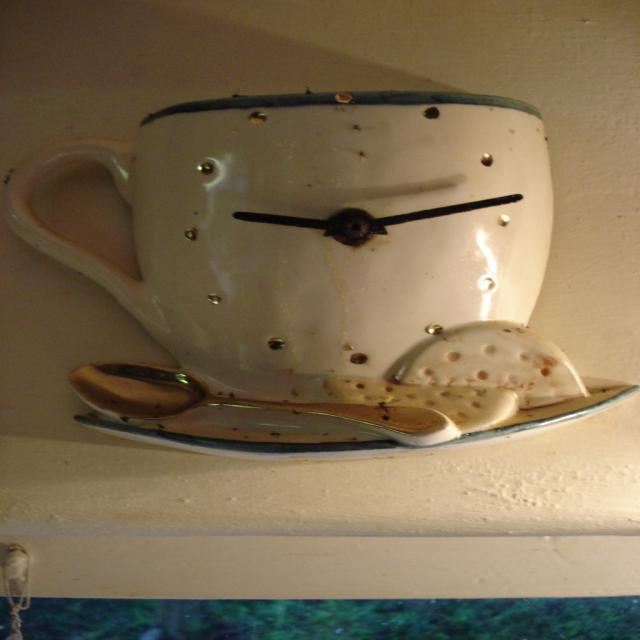ceramic plate: (51, 358, 640, 486)
